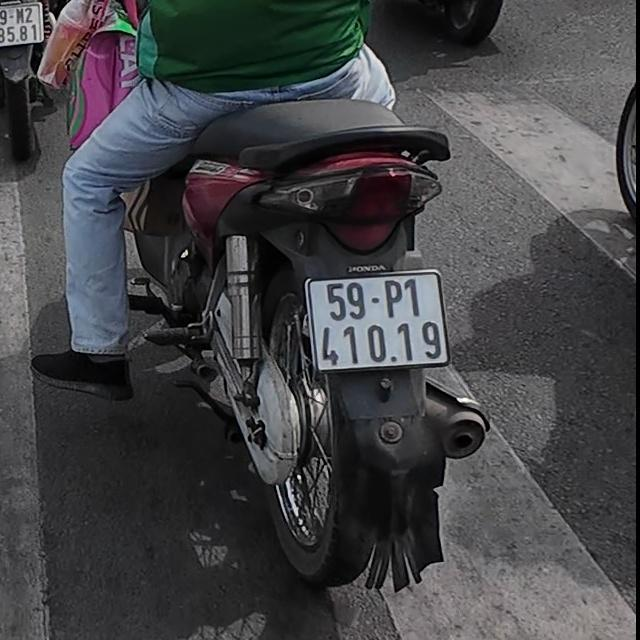motorcycle: (170, 94, 518, 598)
plate: (298, 263, 454, 379)
